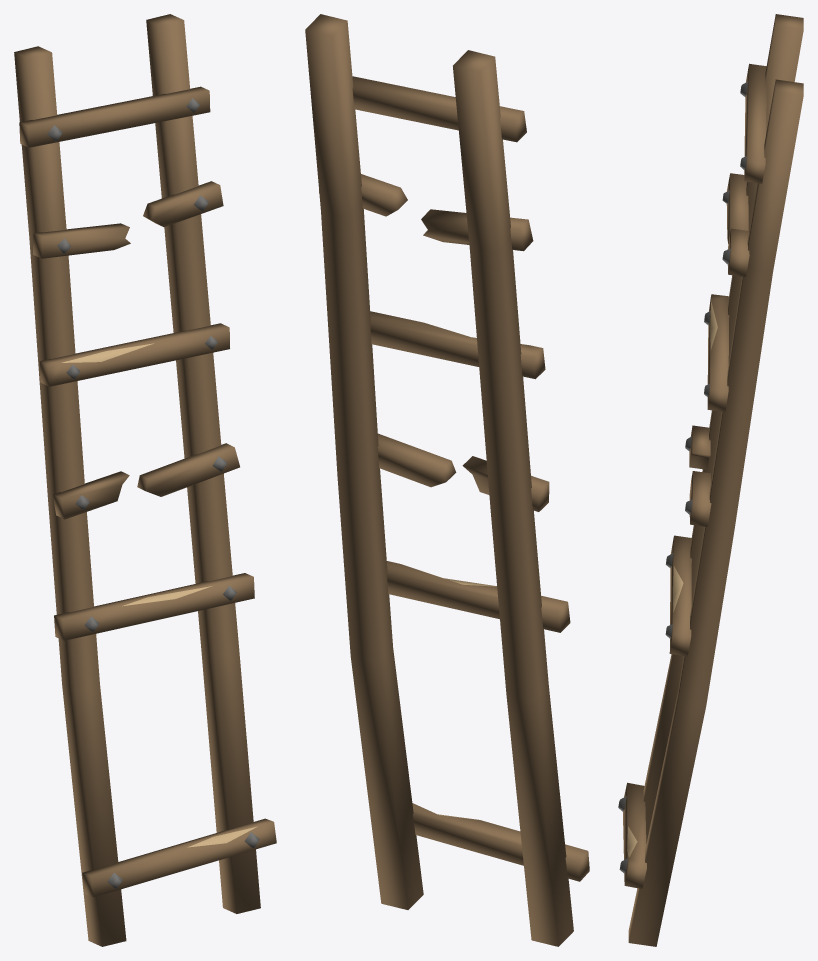
The model's file is rpgpp_av_ladder_01a.gltf.
3 renders of one model, left to right at view 1: azimuth 30°, elevation 25°; view 2: azimuth 150°, elevation 25°; view 3: azimuth 270°, elevation 25°, orthographic. The views are drawn at different scales.
Parts seen in each view (by area): view 1: rpgpp_av_ladder_01a; view 2: rpgpp_av_ladder_01a; view 3: rpgpp_av_ladder_01a.
Boxes of the visible parts, left/top/right/bottom form: rpgpp_av_ladder_01a: left=14, top=14, right=276, bottom=946; rpgpp_av_ladder_01a: left=305, top=14, right=589, bottom=946; rpgpp_av_ladder_01a: left=618, top=14, right=803, bottom=946.
Bounding box in the file's own units: 0.00711 × 0.0299 × 0.00588.
1 material, 1 textured.
